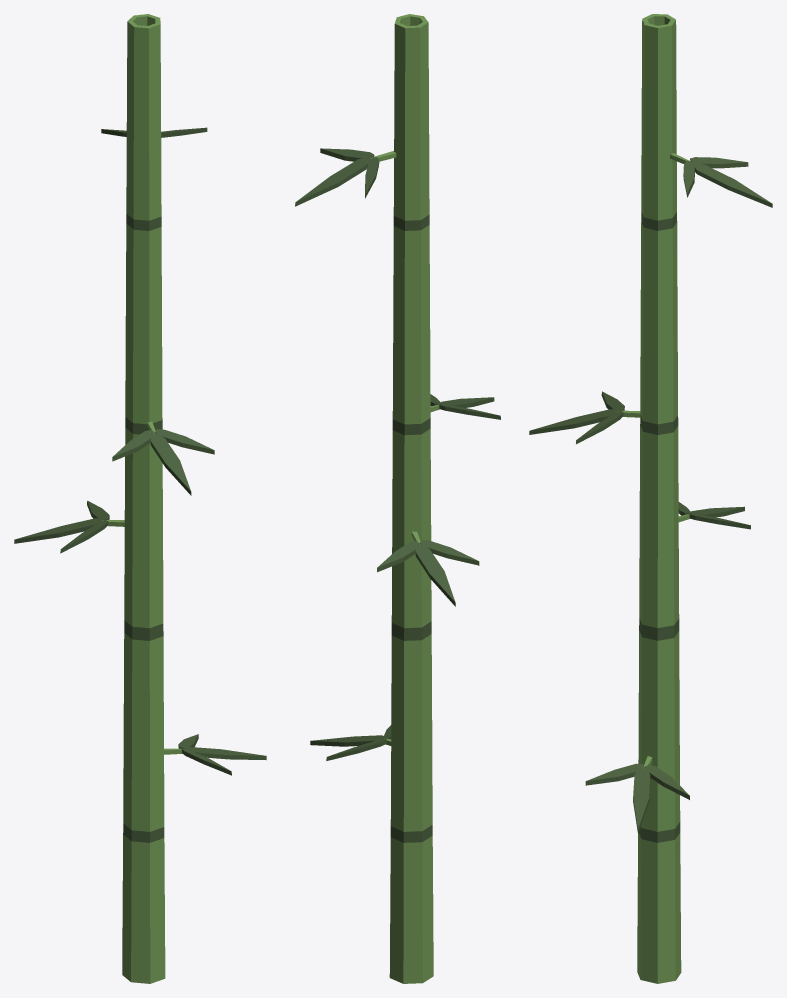
Rendered from Bamboo_3.gltf.
The picture shows the model from 3 angles, left to right: view 1: azimuth 30°, elevation 25°; view 2: azimuth 150°, elevation 25°; view 3: azimuth 270°, elevation 25°; orthographic projection.
Visible parts, largest first — view 1: Bamboo_3; view 2: Bamboo_3; view 3: Bamboo_3.
Part boxes in pixels (x1=…): Bamboo_3: x1=14, y1=14, x2=266, y2=983; Bamboo_3: x1=295, y1=14, x2=500, y2=983; Bamboo_3: x1=529, y1=14, x2=772, y2=983.
Bounding box in the file's own units: 0.3381 × 1.55 × 0.358.
